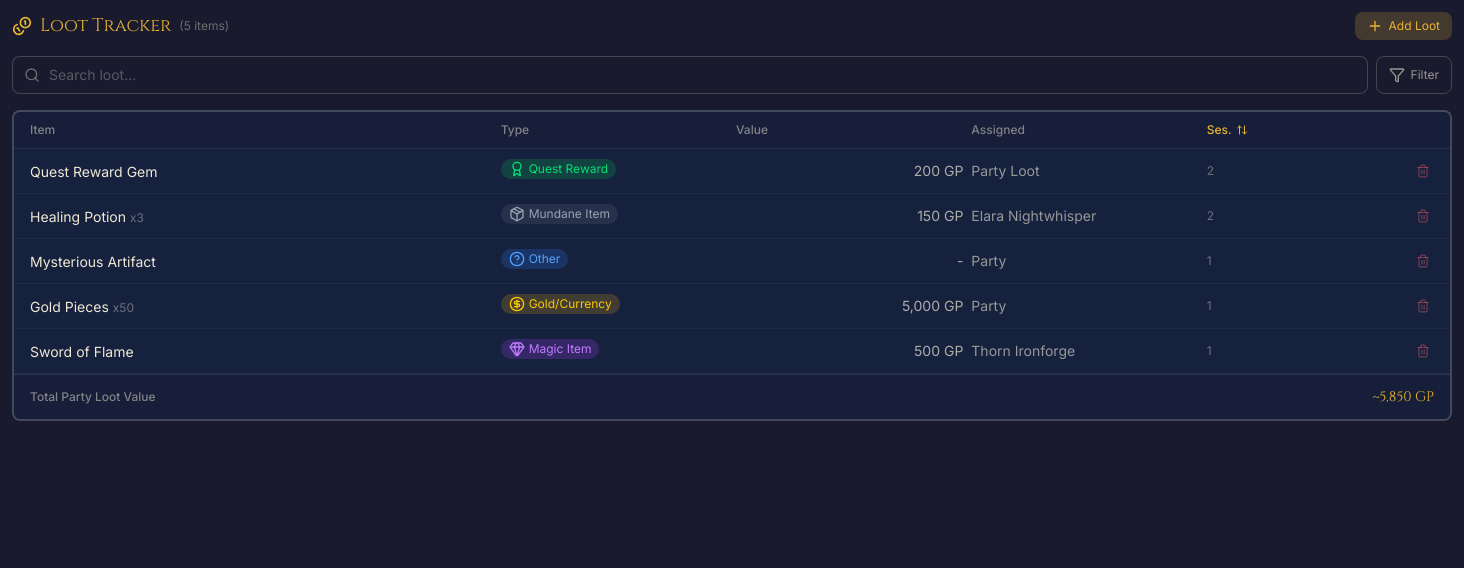
Test: LootTracker › should filter by type
// Open filters
What coordinates should you click on to do the following:
click the button with aria-label "Toggle filters"
I would click on:
 (1414, 75)
Its box is [1376,56,1452,94].
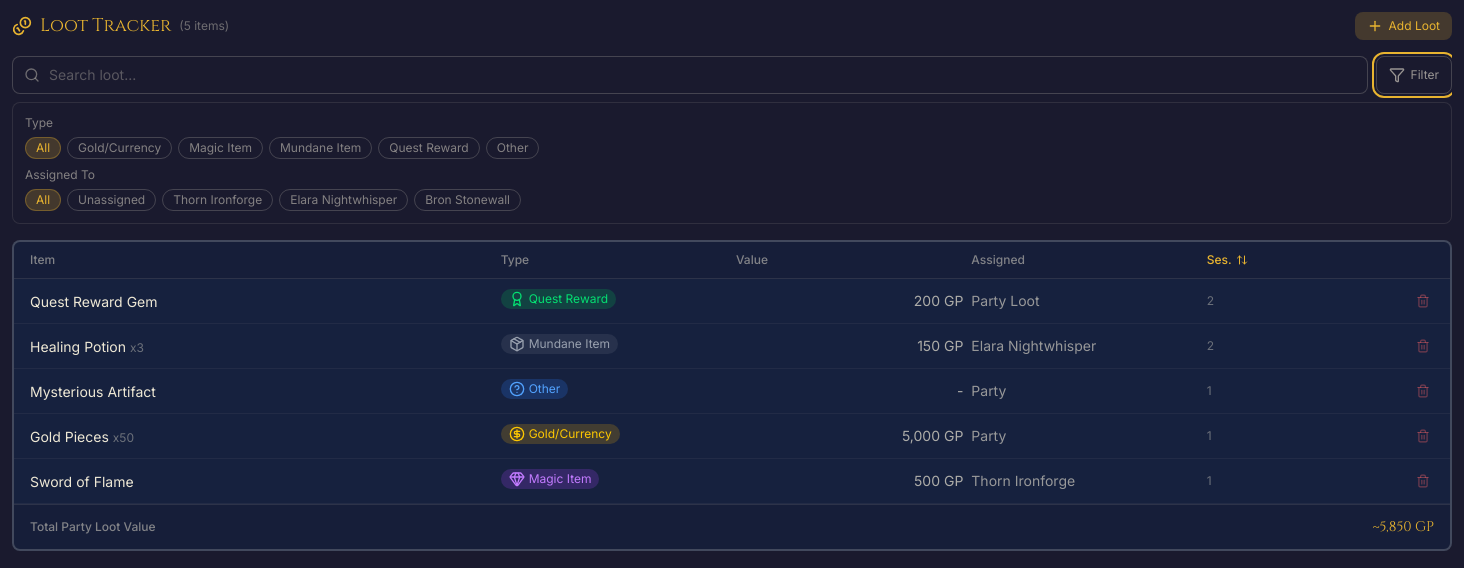
What coordinates should you click on to do the following:
click the button "Magic Item"
I would click on:
 (221, 148)
Its box is [178,137,263,159].
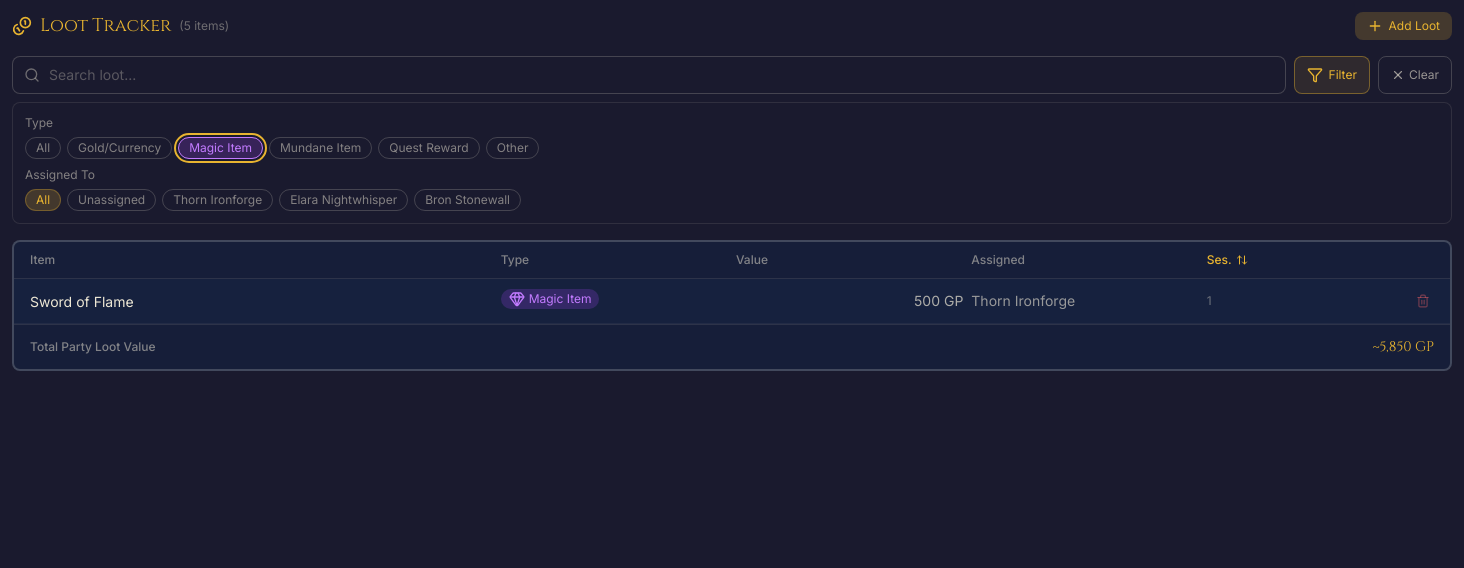
Expected: the text "Sword of Flame" is shown, [30,293,134,310]
Now the text "Gold Pieces" is gone
Now the text "Healing Potion" is gone
